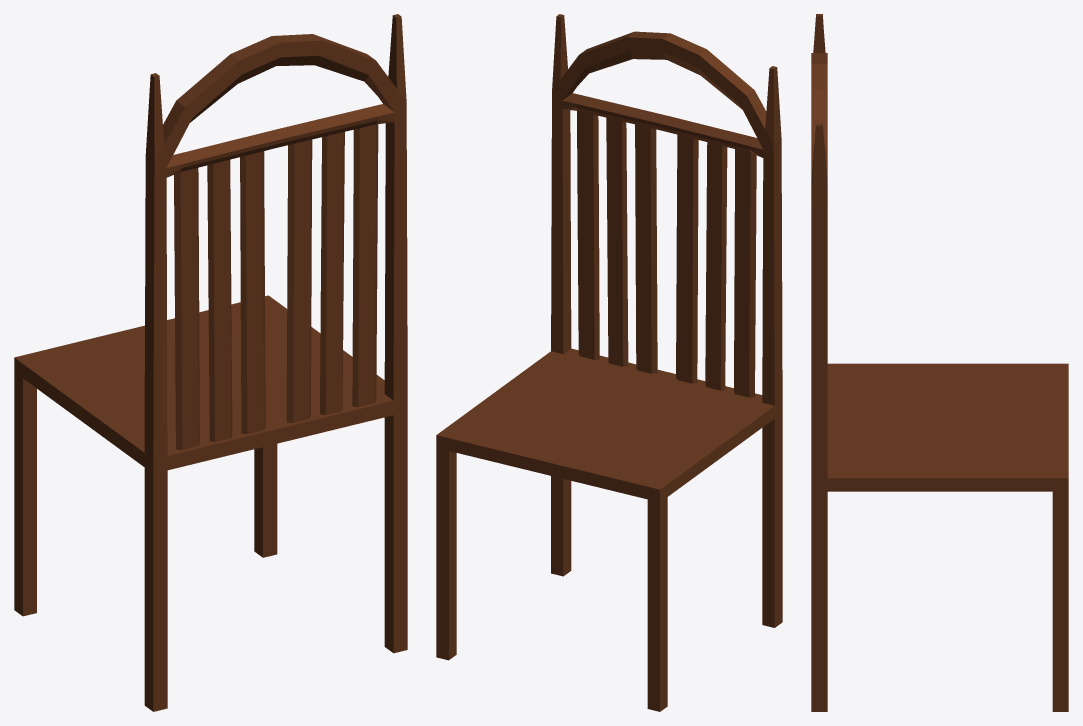
Rendered from cadeiraCB.fbx.
3 renders of one model, left to right at view 1: azimuth 30°, elevation 25°; view 2: azimuth 150°, elevation 25°; view 3: azimuth 270°, elevation 25°, orthographic. The views are drawn at different scales.
Parts seen in each view (by area): view 1: Cube; view 2: Cube; view 3: Cube.
Part boxes in pixels (x1,y1,x2,y2): Cube: (14, 14, 407, 711); Cube: (436, 14, 782, 711); Cube: (811, 14, 1068, 711).
Bounding box in the file's own units: 592 × 1419 × 561.
